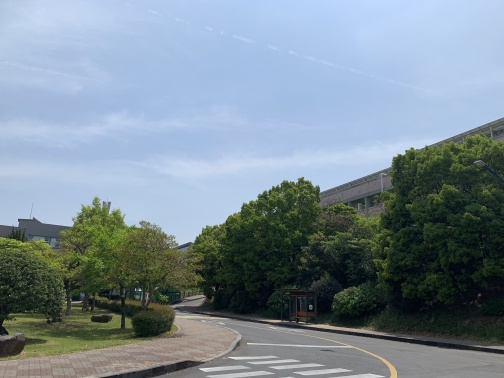College Of Education: (296, 124, 504, 224)
